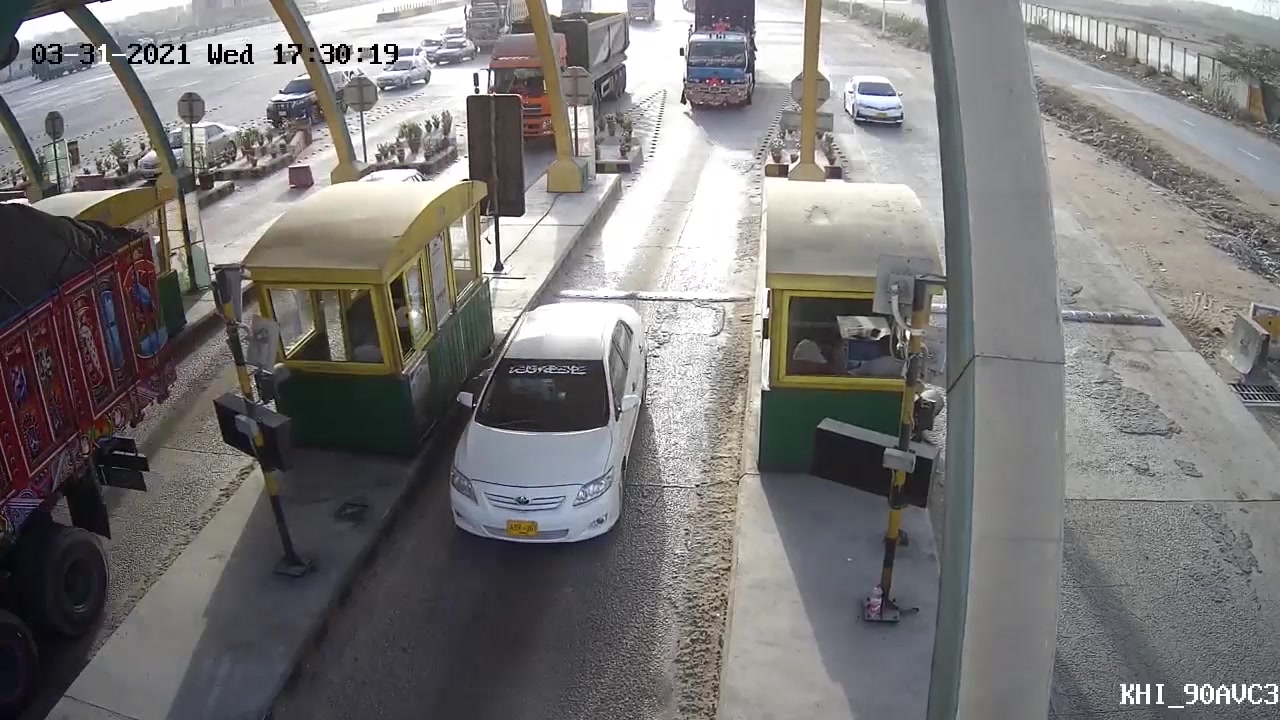F1: (427, 301, 651, 560)
